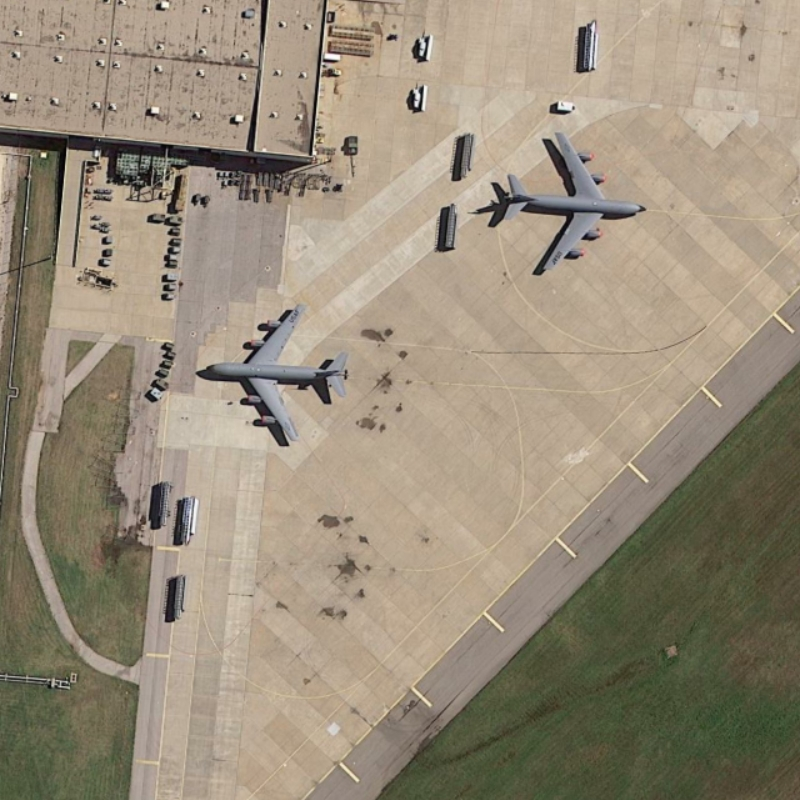A14: (188, 294, 351, 450), (490, 127, 650, 285)
